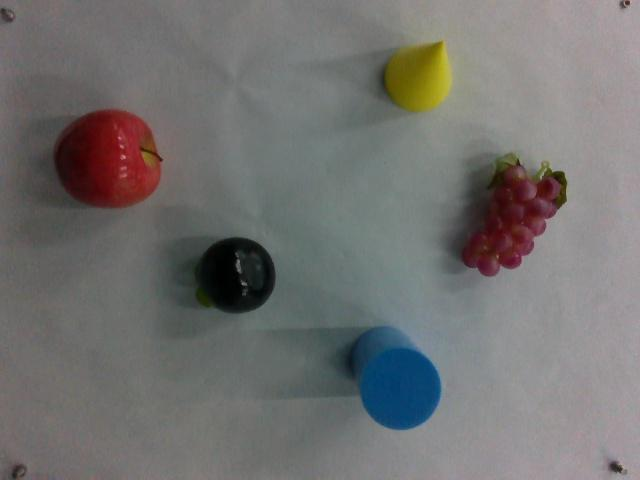apple: (48, 107, 161, 211)
cone: (385, 40, 454, 114)
cylinder: (349, 325, 441, 435)
grape: (461, 155, 569, 280)
mangosteen: (200, 233, 276, 319)
